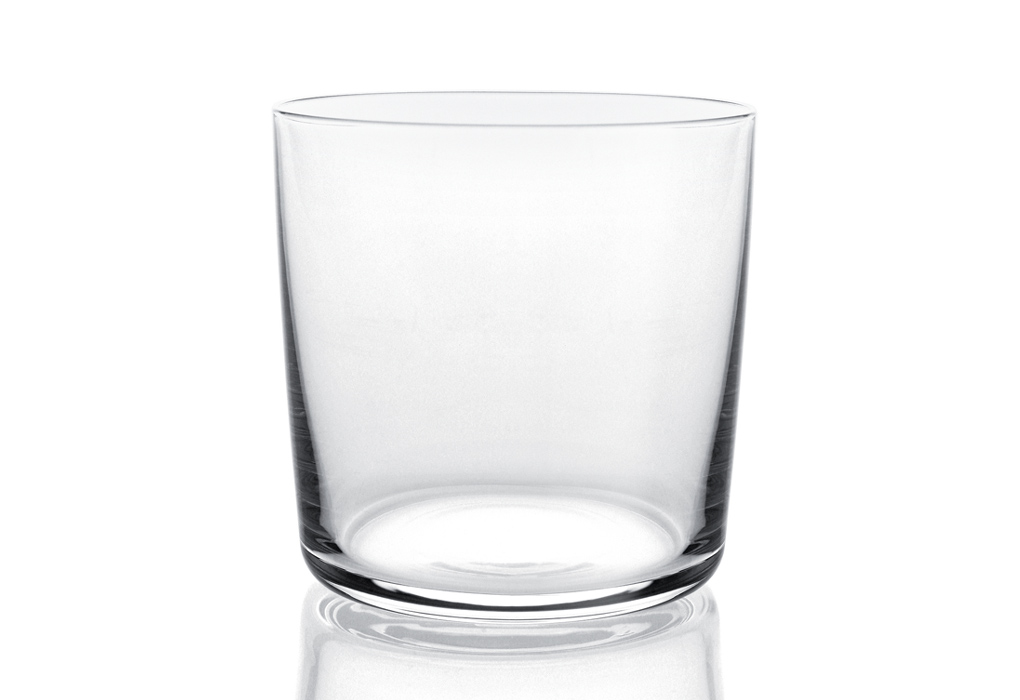glass of water: (271, 119, 727, 596)
